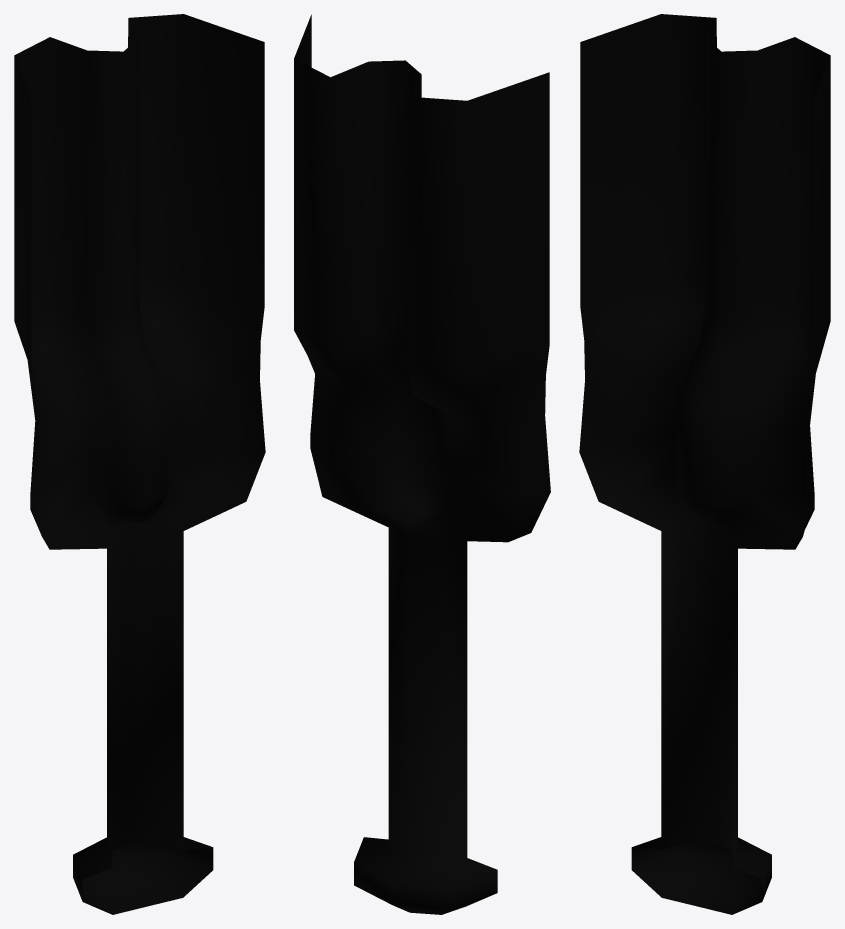
The model's file is Lamp_glass_rod_geo_v001_001.fbx.
3 views of the same model, side by side, from view 1: azimuth 30°, elevation 25°; view 2: azimuth 150°, elevation 25°; view 3: azimuth 330°, elevation 25° (orthographic). The views are drawn at different scales.
Visible parts, largest first — view 1: LampGlassRod; view 2: LampGlassRod; view 3: LampGlassRod.
Boxes of the visible parts, <box> form: LampGlassRod: <box>14,14,265,914</box>; LampGlassRod: <box>294,14,550,914</box>; LampGlassRod: <box>579,14,830,914</box>.
Bounding box in the file's own units: 20.13 × 68.41 × 8.77.
